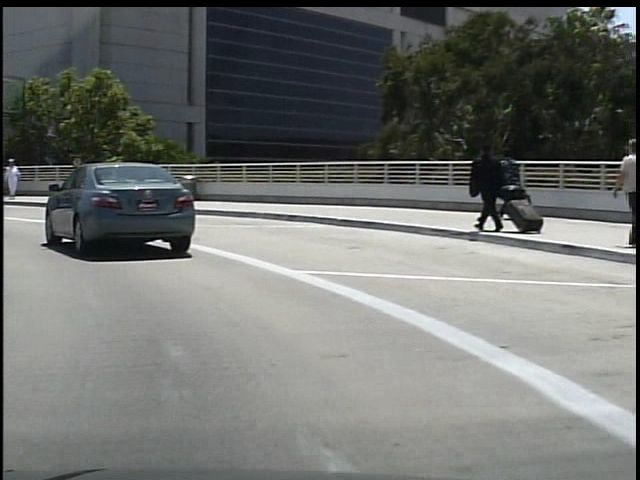person: (602, 137, 640, 250), (463, 138, 505, 230), (489, 146, 522, 224), (5, 155, 21, 198)
